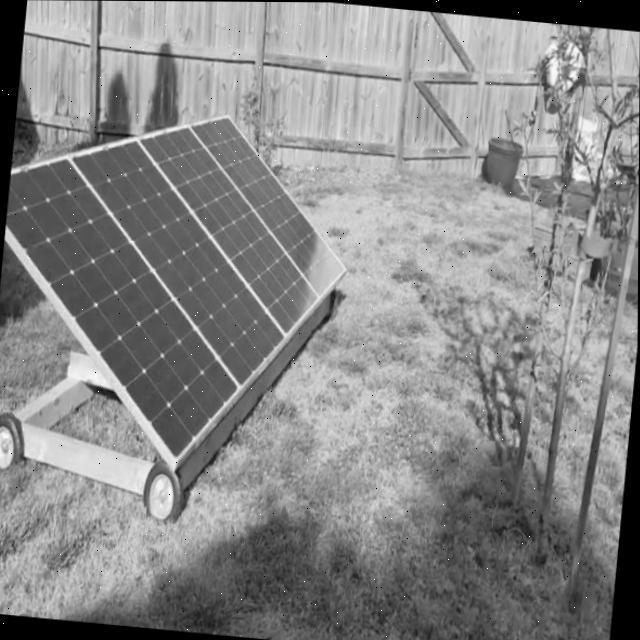Normal Solar Panel: (0, 96, 362, 477)
